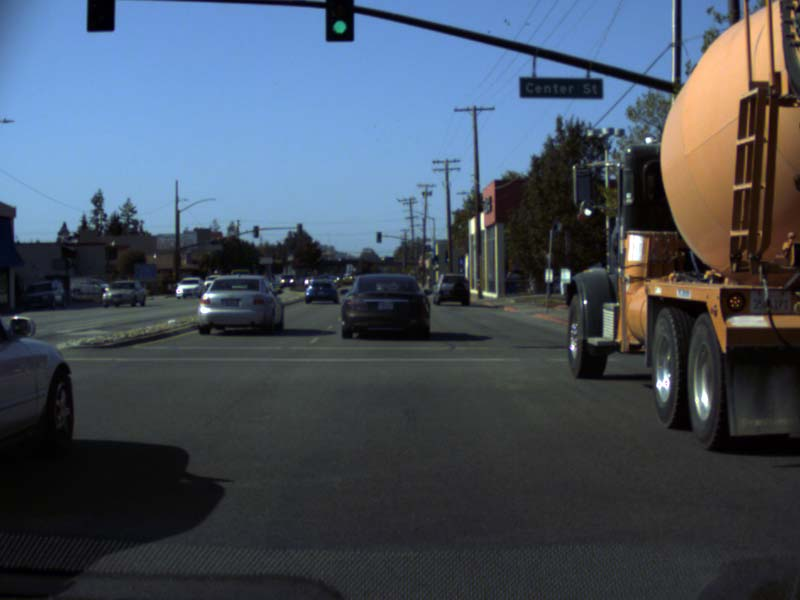Green: (376, 232, 380, 241), (433, 257, 438, 264)
